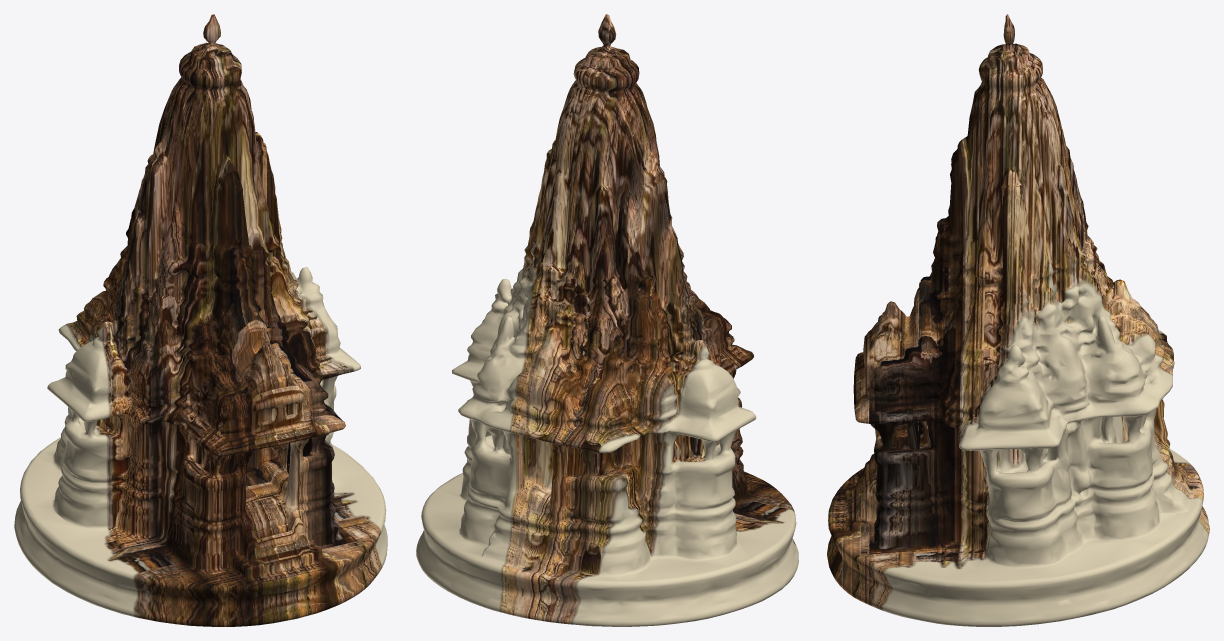
Rendered from shikhara_temple.glb.
The picture shows the model from 3 angles, left to right: view 1: azimuth 30°, elevation 25°; view 2: azimuth 150°, elevation 25°; view 3: azimuth 270°, elevation 25°; orthographic projection. The views are drawn at different scales.
Parts seen in each view (by area): view 1: geometry_0; view 2: geometry_0; view 3: geometry_0.
Boxes of the visible parts, <box> form: geometry_0: <box>14,14,387,626</box>; geometry_0: <box>416,14,798,626</box>; geometry_0: <box>827,14,1209,626</box>.
Size of the model in its own units: 1.25 by 2 by 1.27.
1 material, 1 textured.
